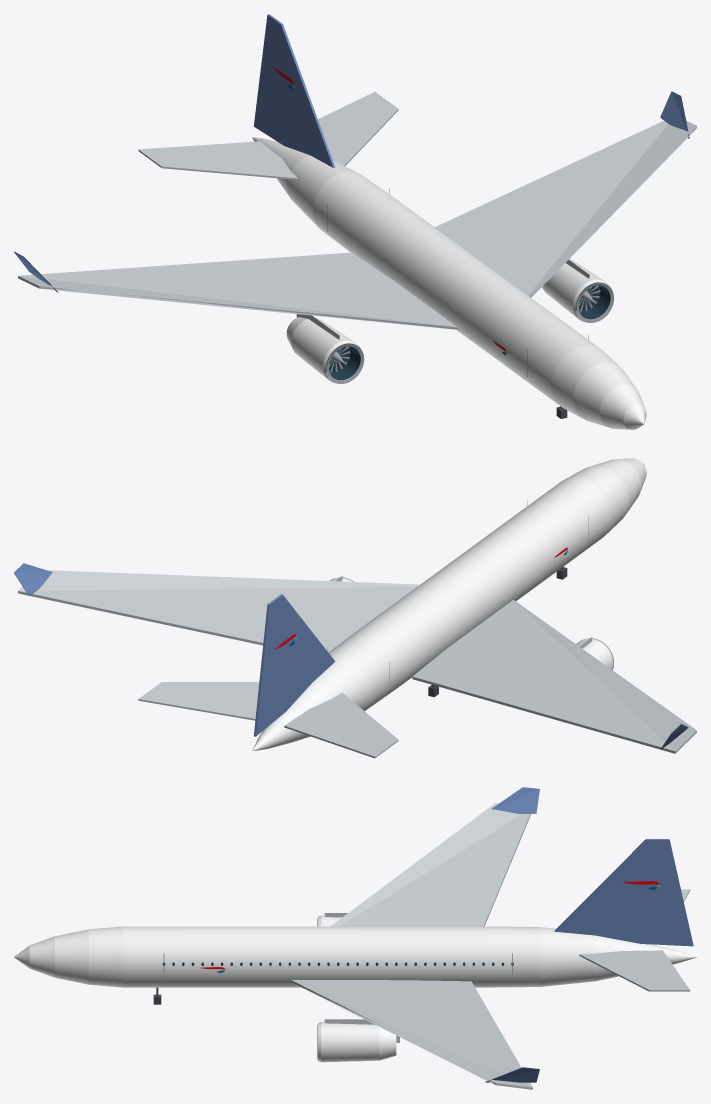
The model's file is a350-BAW-v2.gltf.
The picture shows the model from 3 angles, top to bottom: view 1: azimuth 30°, elevation 25°; view 2: azimuth 150°, elevation 25°; view 3: azimuth 270°, elevation 25°; orthographic projection. The views are drawn at different scales.
Visible parts, largest first — view 1: object 1; view 2: object 1; view 3: object 1.
Part boxes in pixels (x1=…): object 1: x1=14, y1=14, x2=696, y2=429; object 1: x1=14, y1=458, x2=696, y2=758; object 1: x1=14, y1=787, x2=696, y2=1089.
Size of the model in its own units: 65 by 18.14 by 67.
7 materials, 1 textured.
